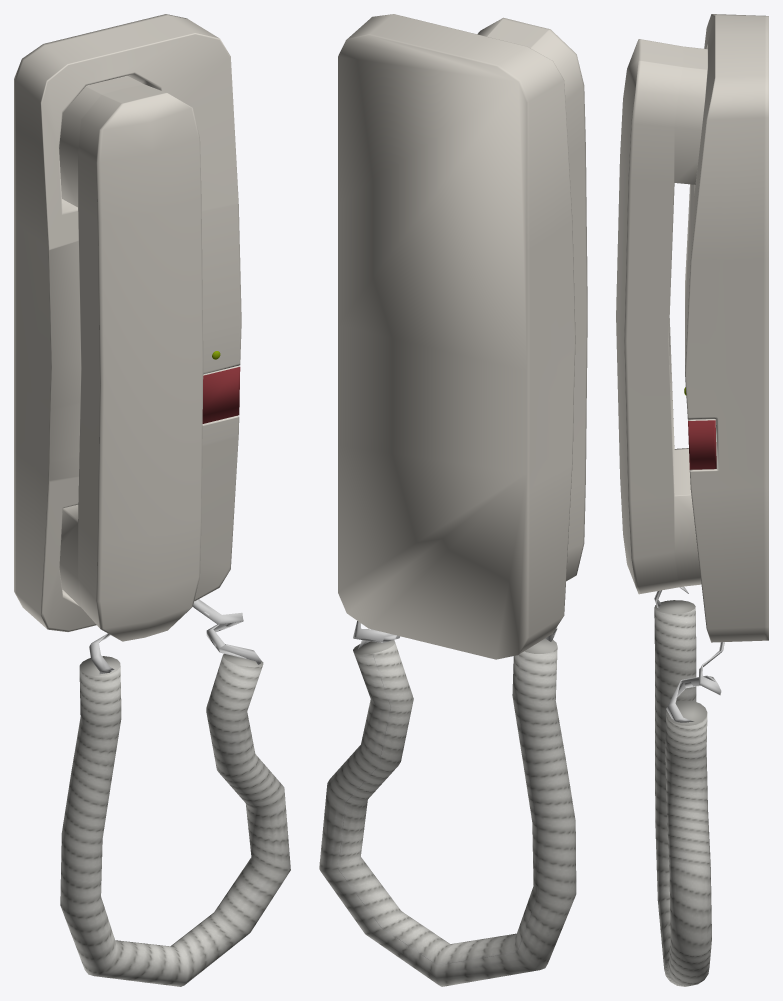
The model's file is intercom.obj.
3 views of the same model, side by side, from view 1: azimuth 30°, elevation 25°; view 2: azimuth 150°, elevation 25°; view 3: azimuth 270°, elevation 25° (orthographic). The views are drawn at different scales.
Visible parts, largest first — view 1: Cube, Cube.001, Cube.003; view 2: Cube, Cube.001; view 3: Cube, Cube.001, Cube.003.
Boxes of the visible parts, x1,y1,x2,y2 form: Cube: (14,14,241,641); Cube.001: (60,654,290,986); Cube.003: (193,599,261,664); Cube: (338,14,587,659); Cube.001: (319,638,576,986); Cube: (616,14,768,642); Cube.001: (654,600,711,986); Cube.003: (666,642,724,722).
Size of the model in its own units: 9.77 by 36.38 by 5.44.
